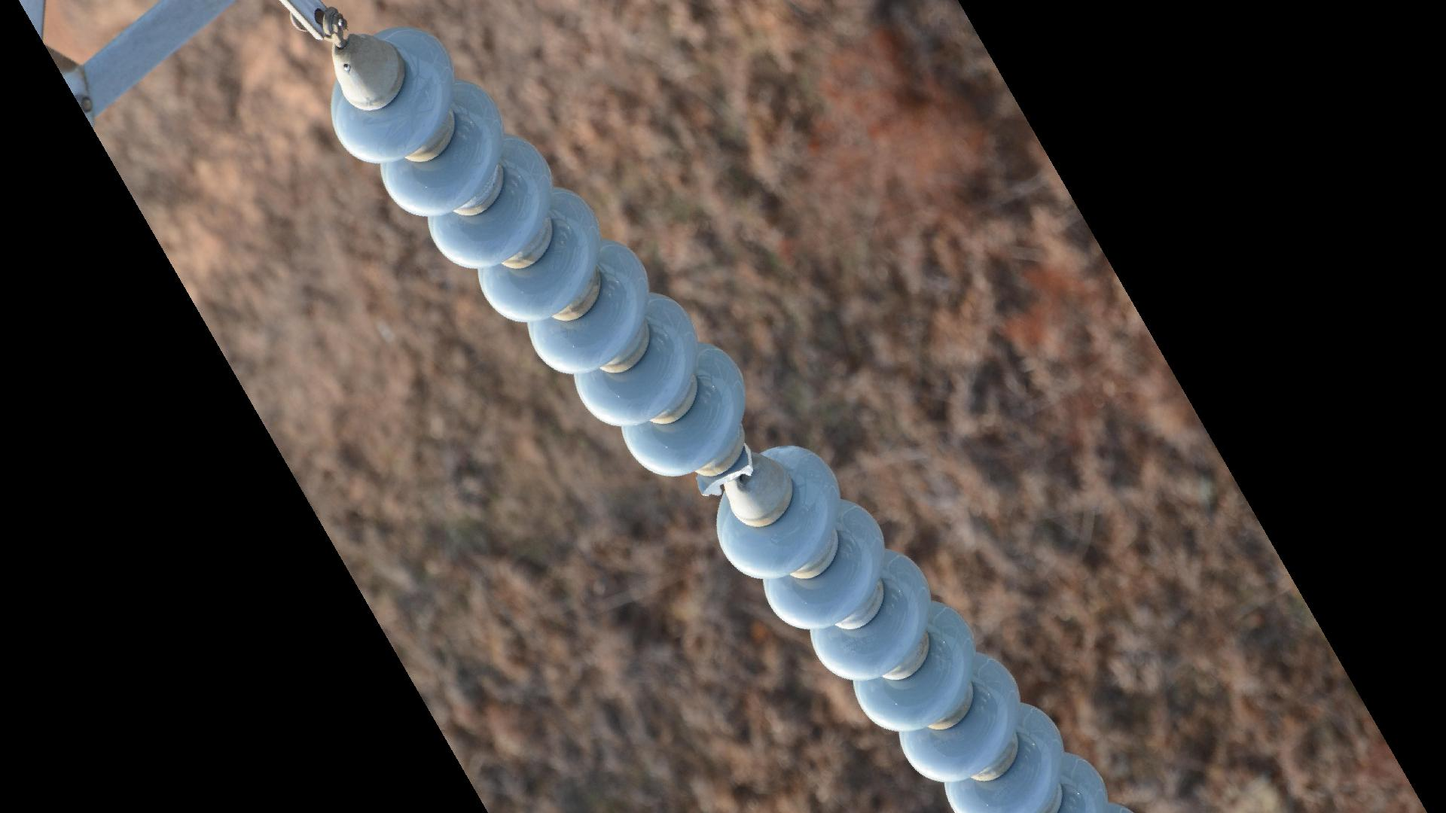insulator: (322, 18, 766, 505), (712, 440, 1143, 813)
